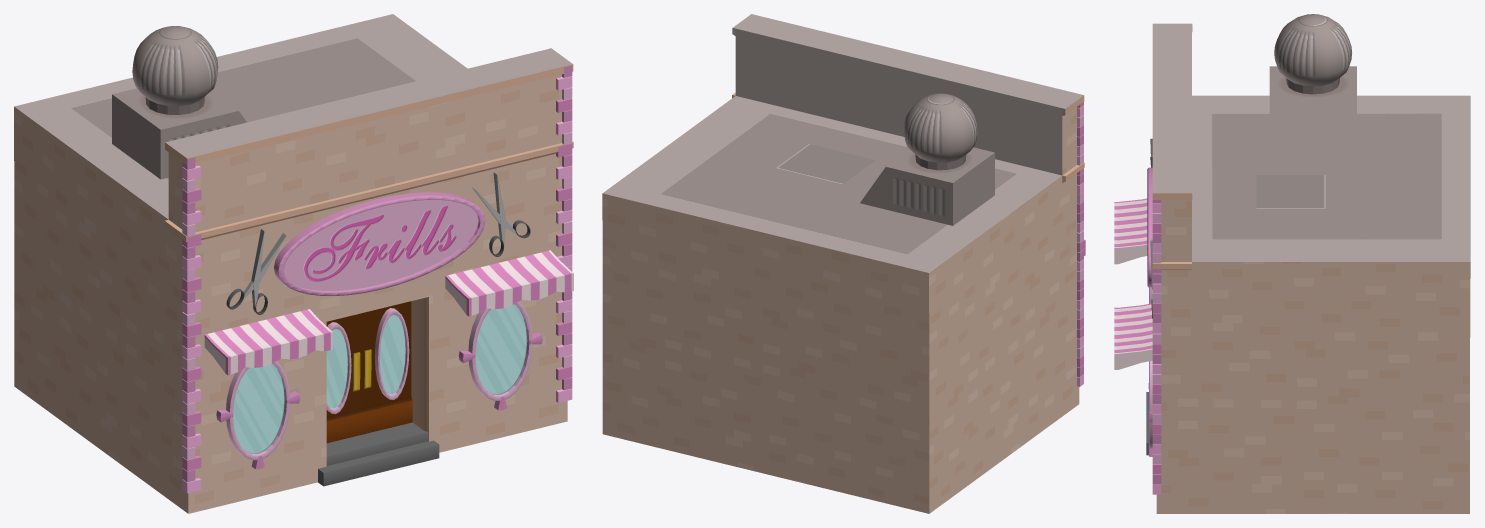
Rendered from french_barbers_shop.fbx.
The picture shows the model from 3 angles, left to right: view 1: azimuth 30°, elevation 25°; view 2: azimuth 150°, elevation 25°; view 3: azimuth 270°, elevation 25°; orthographic projection. The views are drawn at different scales.
Visible parts, largest first — view 1: barbers; view 2: barbers; view 3: barbers.
Boxes of the visible parts, x1,y1,x2,y2 form: barbers: (14, 14, 573, 513); barbers: (602, 14, 1085, 513); barbers: (1114, 14, 1470, 513).
Size of the model in its own units: 8.21 by 8.15 by 7.26.
